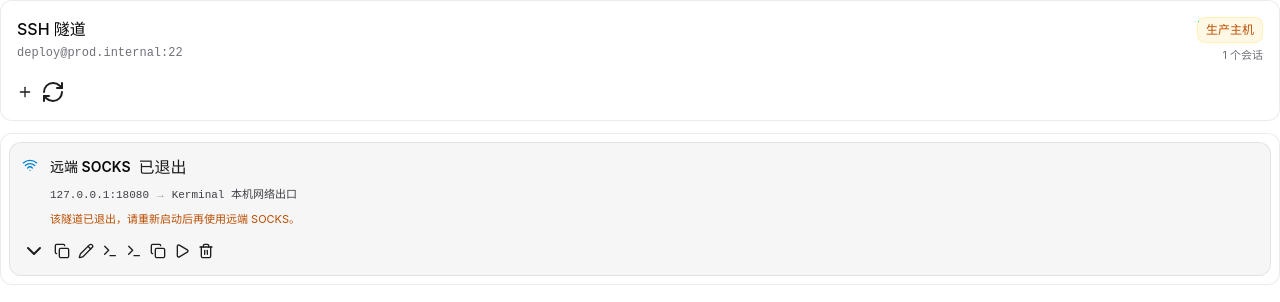
Test: PortForwardToolContent › deletes a saved tunnel only when the delete action is used
Click the button named "删除隧道": {"x": 206, "y": 251} [198,239,214,263]
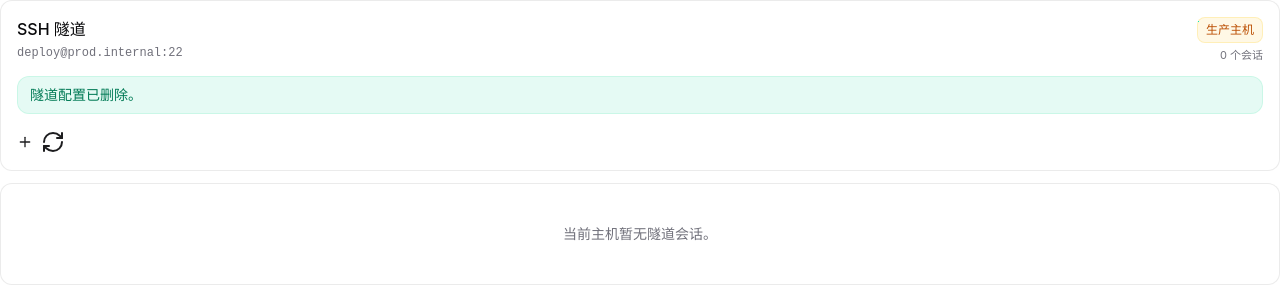
Check: the text "隧道配置已删除。" is shown, box [17,76,1263,114]
